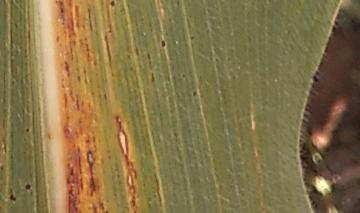tarspot: (8, 192, 18, 203), (159, 37, 166, 49), (23, 182, 32, 191), (191, 89, 198, 97), (24, 125, 30, 134), (109, 1, 116, 8), (59, 6, 65, 14), (189, 34, 196, 40), (181, 72, 187, 79)
